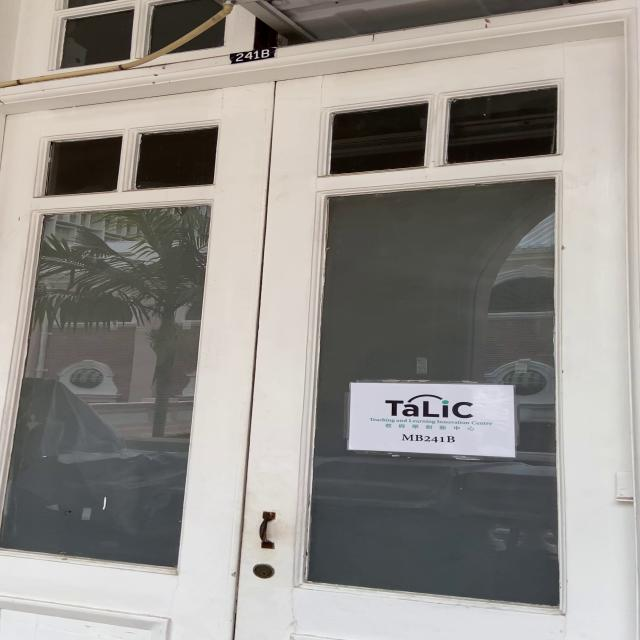room241b: (228, 46, 276, 65)
